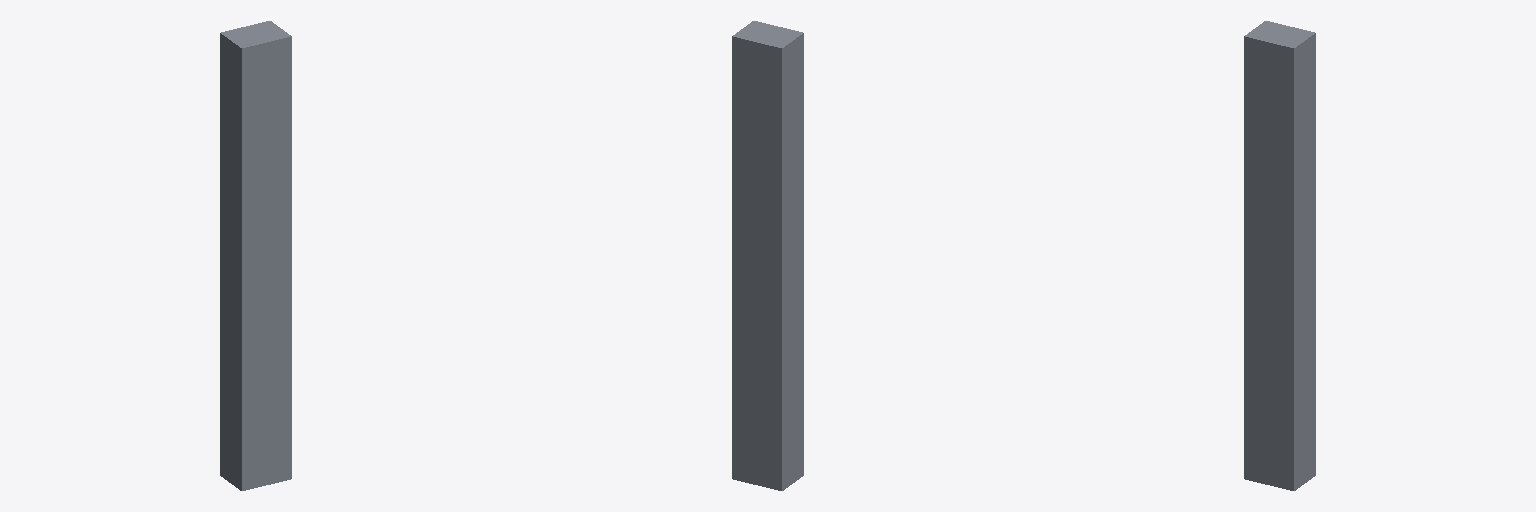
The robot description file, URDF, robot "artmanip_knife_000":
<?xml version='1.0' encoding='utf-8'?>
<robot name="artmanip_knife_000"><link name="link_0"><inertial><mass value="0.029" /><inertia ixx="5.2376416666666666e-05" iyy="5.3094166666666664e-05" izz="1.0270833333333334e-06" ixy="0" ixz="0" iyz="0" /></inertial><visual><geometry><box size="0.016 0.012 0.135" /></geometry><material name="link_0_color"><color rgba=".58 .60 .64 1" /></material></visual><collision><geometry><box size="0.016 0.012 0.135" /></geometry></collision></link><link name="link_1"><inertial><mass value="0.006" /><inertia ixx="4.545e-07" iyy="5e-07" izz="5.45e-08" ixy="0" ixz="0" iyz="0" /></inertial><visual><geometry><mesh filename="slider-shoulder.obj" /></geometry><material name="link_1_color"><color rgba=".12 .13 .15 1" /></material></visual><collision><geometry><mesh filename="slider-shoulder.obj" /></geometry></collision></link><joint name="slider" type="prismatic"><parent link="link_0" /><child link="link_1" /><origin xyz="0.0 0.0075 0.010624586881962734" /><axis xyz="0 0 1" /><limit lower="-0.03267458688196273" upper="0.017325413118037272" effort="100" velocity="1" /><dynamics damping="1000" friction="0.001" /></joint></robot>

--- Facts derived from the render (not from the file) ---
Views: 3 orthographic renders of the robot side by side, from view 1: azimuth 30°, elevation 25°; view 2: azimuth 150°, elevation 25°; view 3: azimuth 330°, elevation 25°.
Model artmanip_knife_000 with 2 links and 1 joints (1 prismatic), rooted at link_0, posed all joints at 0.
Links seen in each view (by area): view 1: link_0; view 2: link_0; view 3: link_0.
Boxes of the visible links, x1,y1,x2,y2 form: link_0: (220, 21, 291, 490); link_0: (732, 21, 803, 490); link_0: (1244, 21, 1315, 490).
Bounding box of the posed robot: 0.016 × 0.012 × 0.135 m (x, y, z).
0 mesh visuals loaded from 1 distinct referenced files (none loaded); not drawn: 1 (reference not matched to a file when rendering).
